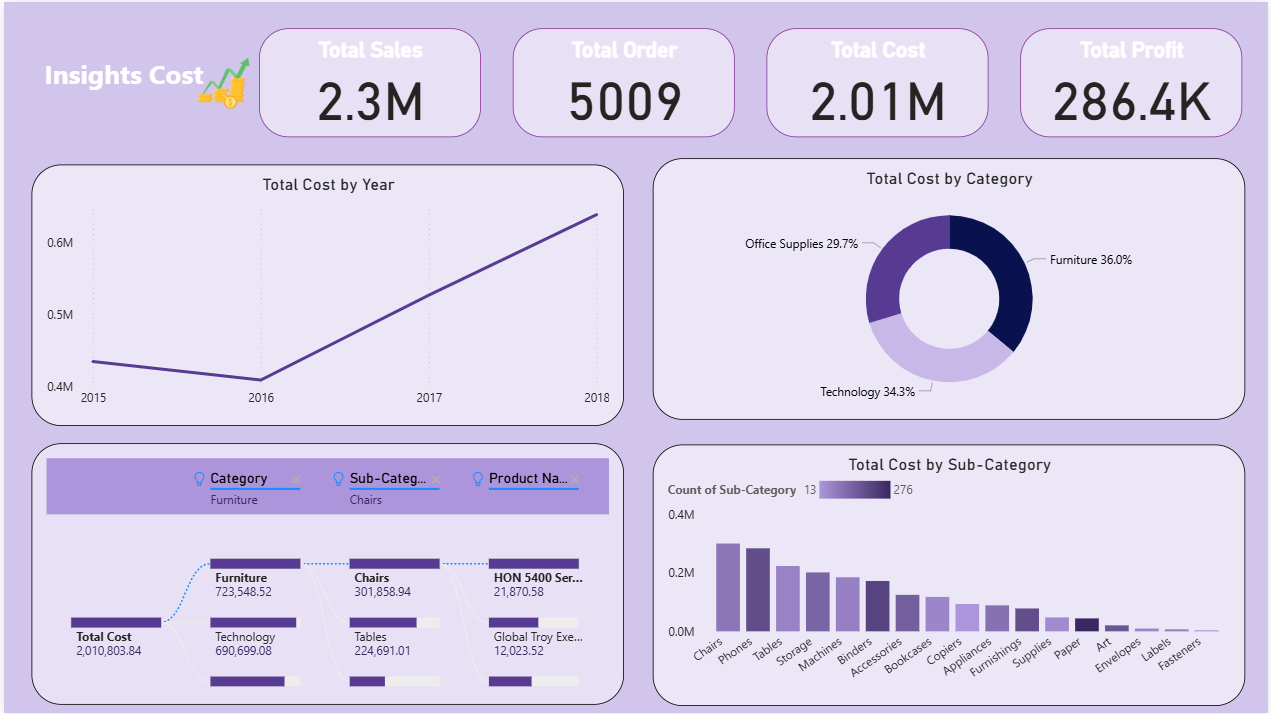

Layout of this report page (visuals, bound fields, positions):
{"tool":"powerbi","page":{"name":"Page 7","canvas":[1280,720],"ordinal":6},"visuals":[{"type":"card","title":"Total Order","fields":{"Values":["Dax_Measure.Total orders"]},"box":[515.7,27,225,110],"z":0},{"type":"card","title":"Total Sales","fields":{"Values":["Dax_Measure.Total Sales"]},"box":[258.8,27,225,110],"z":1},{"type":"card","title":"Total Cost","fields":{"Values":["Dax_Measure.Total Cost"]},"box":[772.7,27,225,110],"z":2},{"type":"card","title":"Total Profit","fields":{"Values":["Dax_Measure.Total Profit"]},"box":[1029.7,27,225,110],"z":3},{"type":"textbox","box":[0,49.4,243,67.1],"z":4},{"type":"decompositionTreeVisual","fields":{"ExplainBy":["ProductDim.Category Hierarchy.Category","ProductDim.Category Hierarchy.Sub-Category","ProductDim.Category Hierarchy.Product Name"],"Analyze":["Dax_Measure.Total Cost"]},"box":[27.8,446.8,600,264.6],"z":5},{"type":"lineChart","fields":{"Category":["DateDim.Order Date.Variation.Date Hierarchy.Year","DateDim.Order Date.Variation.Date Hierarchy.Quarter","DateDim.Order Date.Variation.Date Hierarchy.Month","DateDim.Order Date.Variation.Date Hierarchy.Day"],"Y":["Dax_Measure.Total Cost"]},"box":[27.8,164.6,600,264.6],"z":6},{"type":"donutChart","fields":{"Category":["ProductDim.Category"],"Y":["Dax_Measure.Total Cost"]},"box":[657.5,158,600,265],"z":7},{"type":"columnChart","fields":{"Category":["ProductDim.Sub-Category"],"Y":["Dax_Measure.Total Cost"]},"box":[657.5,447.6,600,265],"z":8},{"type":"image","box":[186.1,49.4,72.2,65.8],"z":9}]}

Visuals, with their boxes in screenshot pixels (x1, y1, x2, y2), scaled from the page's 1280x720 canvas onto the 1271x714 screenshot:
"Total Order" card: Rect(512, 27, 735, 136)
"Total Sales" card: Rect(257, 27, 480, 136)
"Total Cost" card: Rect(767, 27, 991, 136)
"Total Profit" card: Rect(1022, 27, 1246, 136)
textbox: Rect(0, 49, 241, 116)
decompositionTreeVisual - ProductDim.Category Hierarchy.Category x ProductDim.Category Hierarchy.Sub-Category: Rect(28, 443, 623, 705)
lineChart - DateDim.Order Date.Variation.Date Hierarchy.Year x DateDim.Order Date.Variation.Date Hierarchy.Quarter: Rect(28, 163, 623, 426)
donutChart - ProductDim.Category x Dax_Measure.Total Cost: Rect(653, 157, 1249, 419)
columnChart - ProductDim.Sub-Category x Dax_Measure.Total Cost: Rect(653, 444, 1249, 707)
image: Rect(185, 49, 256, 114)
